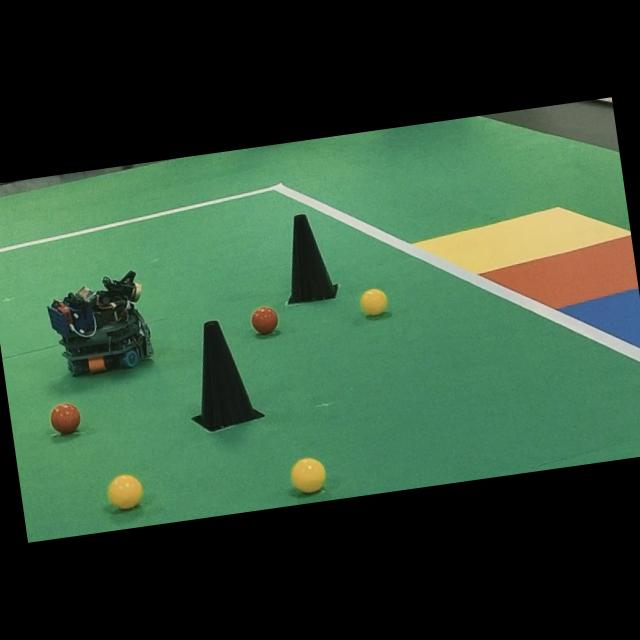ball: (291, 458, 326, 493), (108, 475, 143, 508), (50, 403, 81, 433), (361, 289, 388, 316), (251, 307, 278, 334)
goal: (414, 207, 631, 273), (482, 236, 638, 308), (560, 288, 640, 348)
